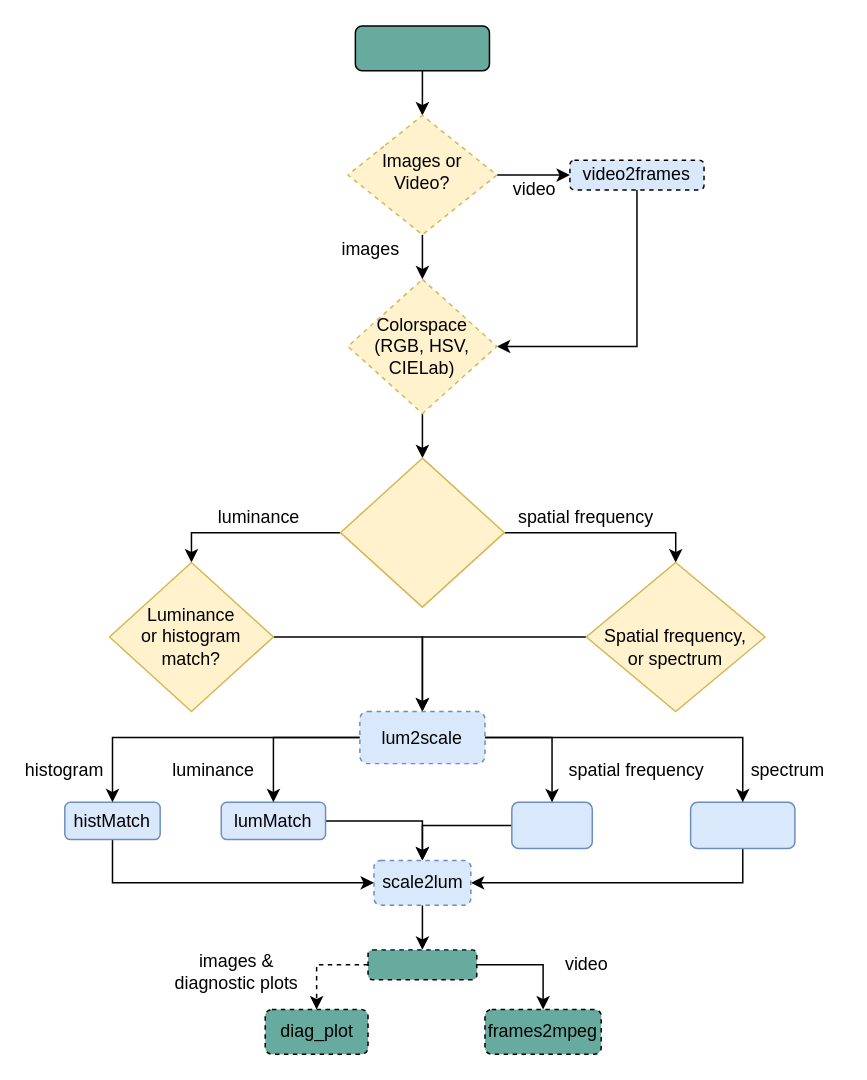
Some shapes in this 867 by 1080 pixel diagram are drawn without their labels. Each missing label, with the centre of its shape:
"lum_calc" goes at pixel 422 964.
"Luminance, spatial frequency" goes at pixel 421 532.
"sfMatch" goes at pixel 551 825.
"SHINE_color" goes at pixel 421 48.
"specMatch" goes at pixel 742 825.
